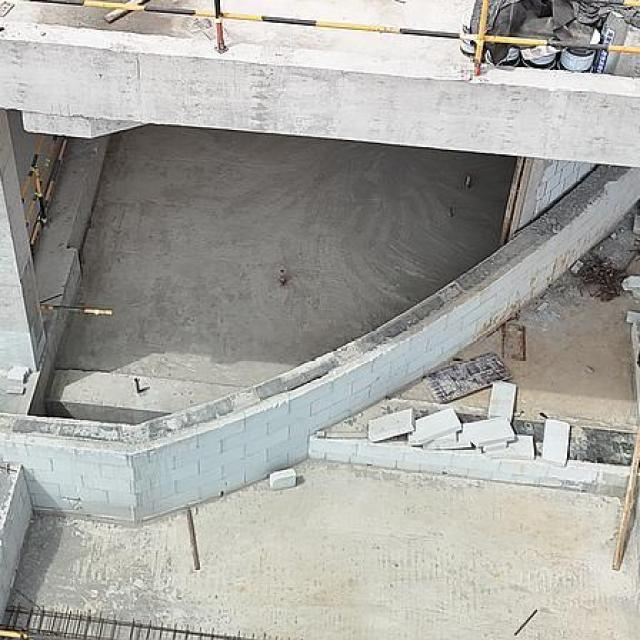edge_guardrail: (37, 0, 640, 77), (21, 135, 69, 248), (0, 628, 50, 640)
